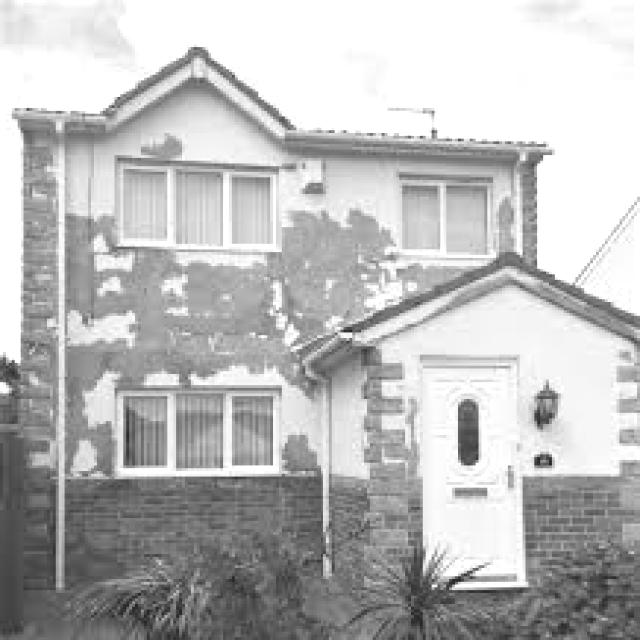peeling paint: (41, 123, 626, 496)
